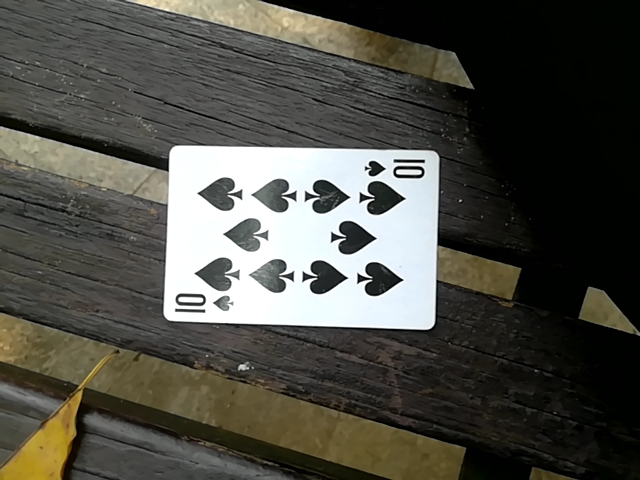ht 10: (154, 142, 441, 331)
